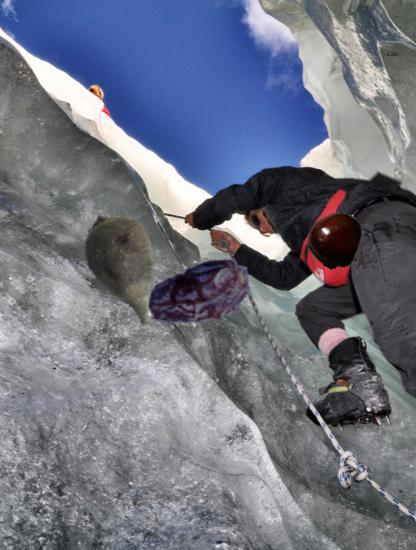Beetroot: (60, 204, 189, 333)
Cherry: (307, 211, 364, 268)
Dates: (147, 241, 255, 349)
